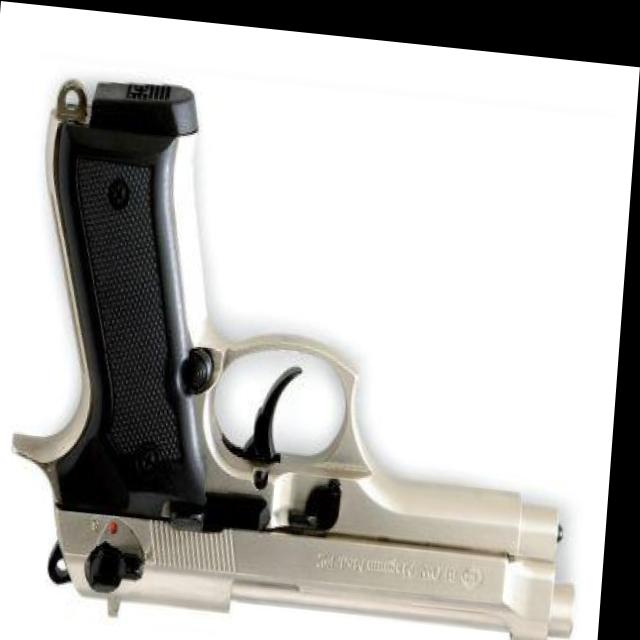handgun: (7, 69, 613, 640)
